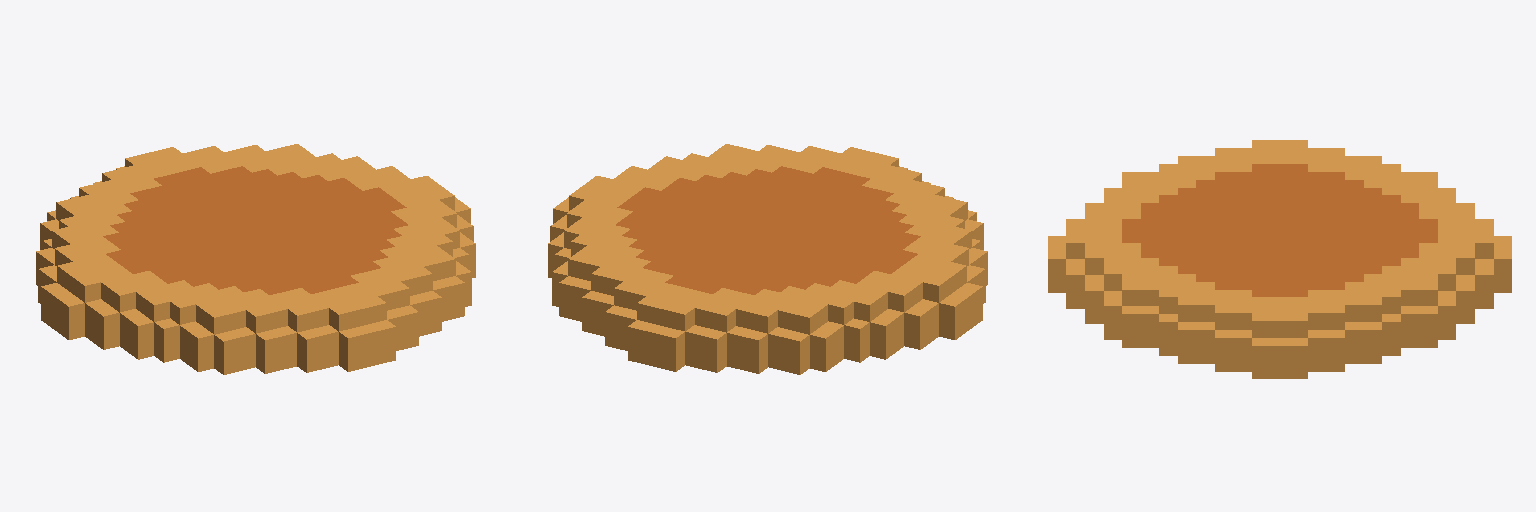
The picture shows the model from 3 angles: view 1: azimuth 30°, elevation 25°; view 2: azimuth 150°, elevation 25°; view 3: azimuth 270°, elevation 25°; orthographic projection.
Visible parts, largest first — view 1: object 1; view 2: object 1; view 3: object 1.
Part boxes in pixels (x1,y1,x2,y2): object 1: (36, 144, 475, 374); object 1: (548, 144, 987, 374); object 1: (1048, 140, 1511, 378).
Bounding box in the file's own units: 2.5 × 0.3 × 2.5.
1 materials, 1 textured.